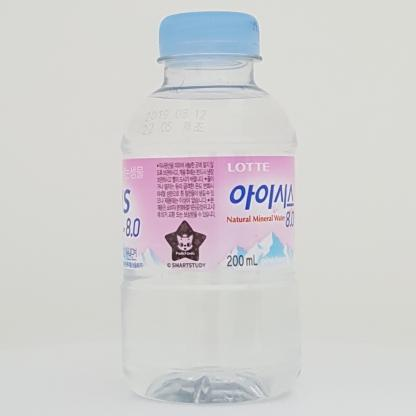------200ML: (119, 11, 302, 405)
